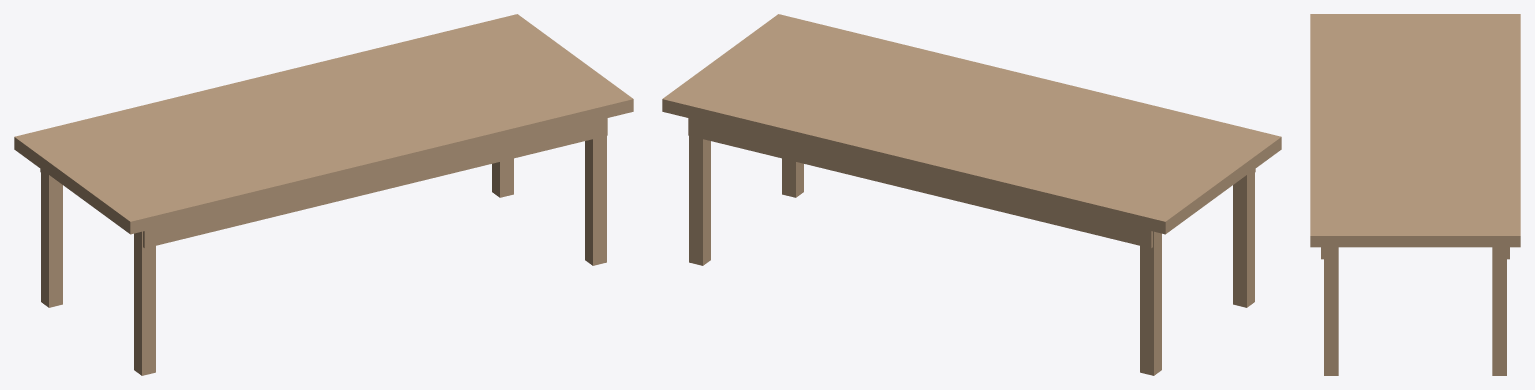
Rendered from dining-table.glb.
3 renders of one model, left to right at view 1: azimuth 30°, elevation 25°; view 2: azimuth 150°, elevation 25°; view 3: azimuth 270°, elevation 25°, orthographic. The views are drawn at different scales.
Parts seen in each view (by area): view 1: dining-table; view 2: dining-table; view 3: dining-table.
Part boxes in pixels (bbox=[...]): dining-table: bbox=[14, 14, 633, 375]; dining-table: bbox=[662, 14, 1281, 375]; dining-table: bbox=[1310, 14, 1520, 375].
Bounding box in the file's own units: 2.5 × 0.78 × 1.
